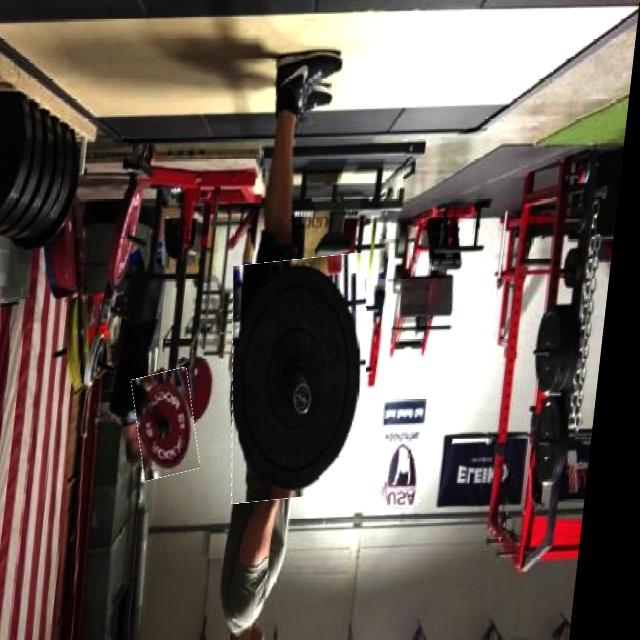barbell: (226, 257, 392, 502), (138, 371, 215, 479)
